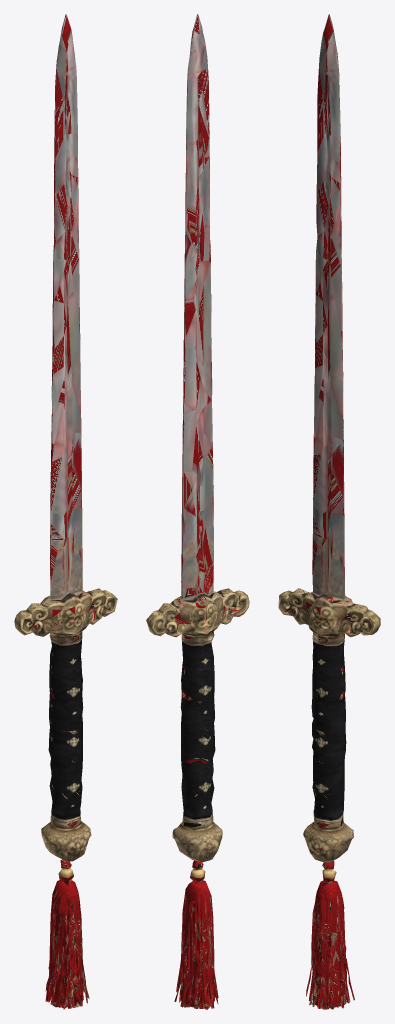
The model's file is weapon_ming_jian_lod1.glb.
3 views of the same model, side by side, from view 1: azimuth 30°, elevation 25°; view 2: azimuth 210°, elevation 25°; view 3: azimuth 330°, elevation 25° (orthographic).
Bounding box in the file's own units: 0.1142 × 1.1 × 0.0535.
Materials: 1 (1 with a texture image).
